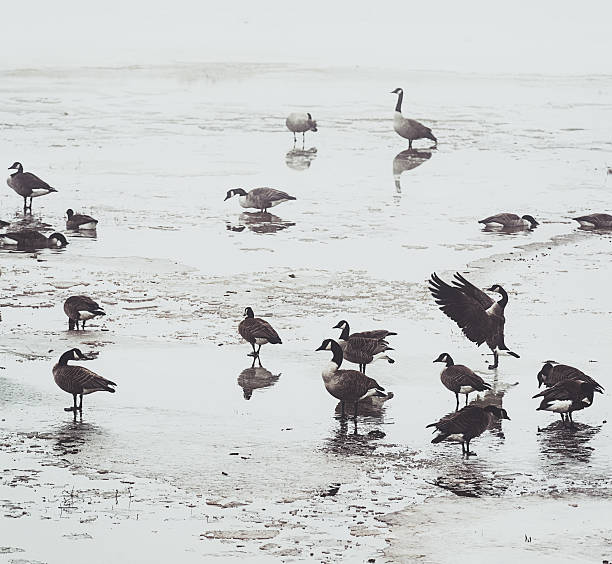goose: (427, 269, 523, 371), (315, 337, 390, 432), (49, 345, 119, 415), (424, 403, 512, 458), (430, 351, 497, 413), (389, 85, 440, 153), (331, 319, 396, 371), (1, 161, 62, 211), (535, 376, 597, 425), (237, 306, 284, 358), (222, 184, 300, 215), (534, 361, 603, 395), (59, 293, 107, 337), (476, 212, 542, 233), (1, 230, 69, 250), (285, 110, 319, 150), (64, 207, 100, 234), (572, 212, 612, 232)
